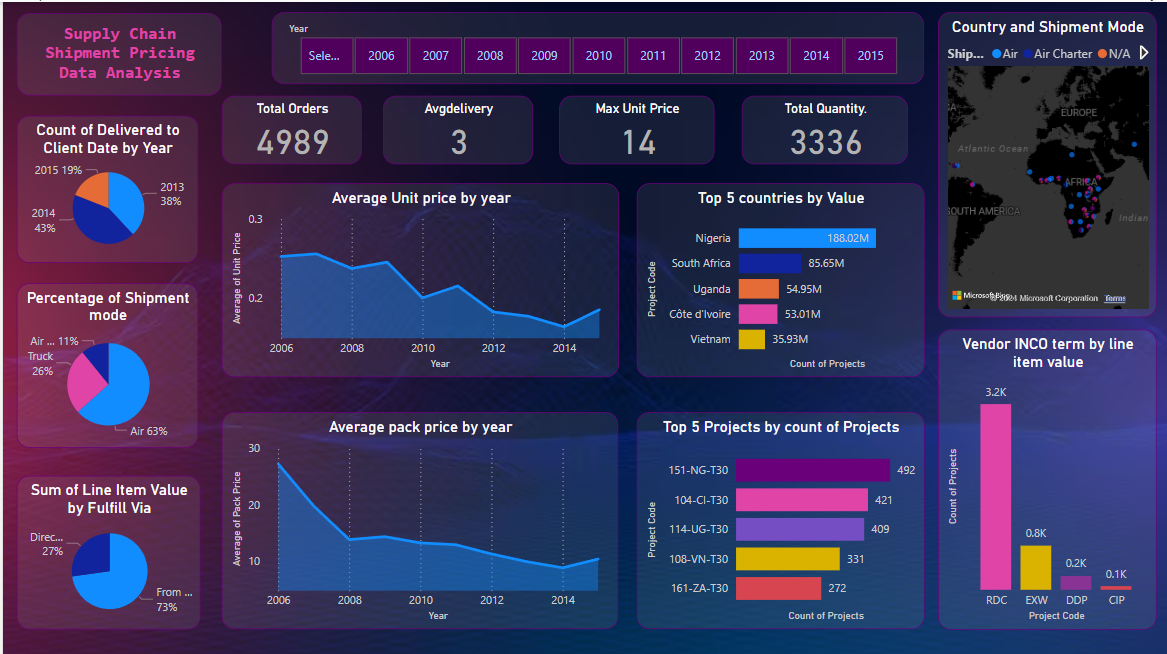

What the dashboard file says about the page in this screenshot:
{"tool":"powerbi","page":{"name":"Page 1","canvas":[1280,720],"ordinal":0},"visuals":[{"type":"clusteredBarChart","title":"Top 5 Projects by count of Projects","fields":{"Category":["Supply Chain Shipment Pricing.Project Code"],"Y":["Supply Chain Shipment Pricing.COP"]},"box":[695.7,450.1,315.6,238.8],"z":0},{"type":"card","title":"Total Orders","fields":{"Values":["Supply Chain Shipment Pricing.CountofOrders"]},"box":[240.1,102.9,153.7,75.5],"z":1000},{"type":"barChart","title":"Top 5 countries by Value","fields":{"Category":["Supply Chain Shipment Pricing.Country"],"Y":["Sum(Supply Chain Shipment Pricing.Line Item Value)"]},"box":[695.7,199,315.6,212.7],"z":2000},{"type":"pieChart","fields":{"Category":["Supply Chain Shipment Pricing.Fulfill Via"],"Y":["Sum(Supply Chain Shipment Pricing.Line Item Value)"]},"box":[15.1,520.1,201.7,168.8],"z":3000},{"type":"columnChart","title":"Vendor INCO term by line item value","fields":{"Y":["Supply Chain Shipment Pricing.Countoflineitemvalues"],"Category":["Supply Chain Shipment Pricing.Vendor INCO Term"]},"box":[1026.4,359.5,240.1,329.3],"z":4000},{"type":"pieChart","fields":{"Y":["CountNonNull(Supply Chain Shipment Pricing.Delivered to Client Date)"],"Category":["Supply Chain Shipment Pricing.Delivered to Client Date.Variation.Date Hierarchy.Year"]},"box":[15.1,124.9,199,161.9],"z":5000},{"type":"card","title":"Avgdelivery","fields":{"Values":["Avg(Supply Chain Shipment Pricing.Avgdelivery)"]},"box":[417.2,102.9,164.7,75.5],"z":6000},{"type":"pieChart","title":"Percentage of Shipment mode","fields":{"Category":["Supply Chain Shipment Pricing.Shipment Mode"],"Y":["CountNonNull(Supply Chain Shipment Pricing.Country)"]},"box":[15.1,308.7,199,181.1],"z":7000},{"type":"stackedAreaChart","title":"Average pack price by year","fields":{"Category":["Supply Chain Shipment Pricing.Delivery Recorded Date.Variation.Date Hierarchy.Year"],"Y":["Avg(Supply Chain Shipment Pricing.Pack Price)"]},"box":[240.1,450.1,435,238.8],"z":8000},{"type":"stackedAreaChart","title":"Average Unit price by year","fields":{"Category":["Supply Chain Shipment Pricing.Delivery Recorded Date.Variation.Date Hierarchy.Year"],"Y":["Avg(Supply Chain Shipment Pricing.Unit Price)"]},"box":[240.1,199,436.4,212.7],"z":9000},{"type":"map","fields":{"Category":["Supply Chain Shipment Pricing.Country"],"Series":["Supply Chain Shipment Pricing.Shipment Mode"]},"box":[1026.4,11,240.1,334.8],"z":10000},{"type":"card","title":"Max Unit Price","fields":{"Values":["Max(Supply Chain Shipment Pricing.Unit Price)"]},"box":[610.6,102.9,170.2,75.5],"z":11000},{"type":"card","title":"Total Quantity.","fields":{"Values":["Count(Supply Chain Shipment Pricing.Line Item Quantity)"]},"box":[811,102.9,182.5,75.5],"z":12000},{"type":"slicer","fields":{"Values":["Supply Chain Shipment Pricing.Scheduled Delivery Date.Variation.Date Hierarchy.Year"]},"box":[295,11,716.3,79.6],"z":13000},{"type":"textbox","box":[15.1,12.3,225,90.6],"z":14000}]}

Visuals, with their boxes in screenshot pixels (x1, y1, x2, y2), scaled from the page's 1280x720 canvas onto the 1167x654 screenshot:
"Top 5 Projects by count of Projects" clusteredBarChart: {"left": 634, "top": 409, "right": 922, "bottom": 626}
"Total Orders" card: {"left": 219, "top": 93, "right": 359, "bottom": 162}
"Top 5 countries by Value" barChart: {"left": 634, "top": 181, "right": 922, "bottom": 374}
pieChart - Supply Chain Shipment Pricing.Fulfill Via x Sum(Supply Chain Shipment Pricing.Line Item Value): {"left": 14, "top": 472, "right": 198, "bottom": 626}
"Vendor INCO term by line item value" columnChart: {"left": 936, "top": 327, "right": 1155, "bottom": 626}
pieChart - CountNonNull(Supply Chain Shipment Pricing.Delivered to Client Date) x Supply Chain Shipment Pricing.Delivered to Client Date.Variation.Date Hierarchy.Year: {"left": 14, "top": 113, "right": 195, "bottom": 261}
"Avgdelivery" card: {"left": 380, "top": 93, "right": 531, "bottom": 162}
"Percentage of Shipment mode" pieChart: {"left": 14, "top": 280, "right": 195, "bottom": 445}
"Average pack price by year" stackedAreaChart: {"left": 219, "top": 409, "right": 616, "bottom": 626}
"Average Unit price by year" stackedAreaChart: {"left": 219, "top": 181, "right": 617, "bottom": 374}
map - Supply Chain Shipment Pricing.Country x Supply Chain Shipment Pricing.Shipment Mode: {"left": 936, "top": 10, "right": 1155, "bottom": 314}
"Max Unit Price" card: {"left": 557, "top": 93, "right": 712, "bottom": 162}
"Total Quantity." card: {"left": 739, "top": 93, "right": 906, "bottom": 162}
slicer - Supply Chain Shipment Pricing.Scheduled Delivery Date.Variation.Date Hierarchy.Year: {"left": 269, "top": 10, "right": 922, "bottom": 82}
textbox: {"left": 14, "top": 11, "right": 219, "bottom": 93}
